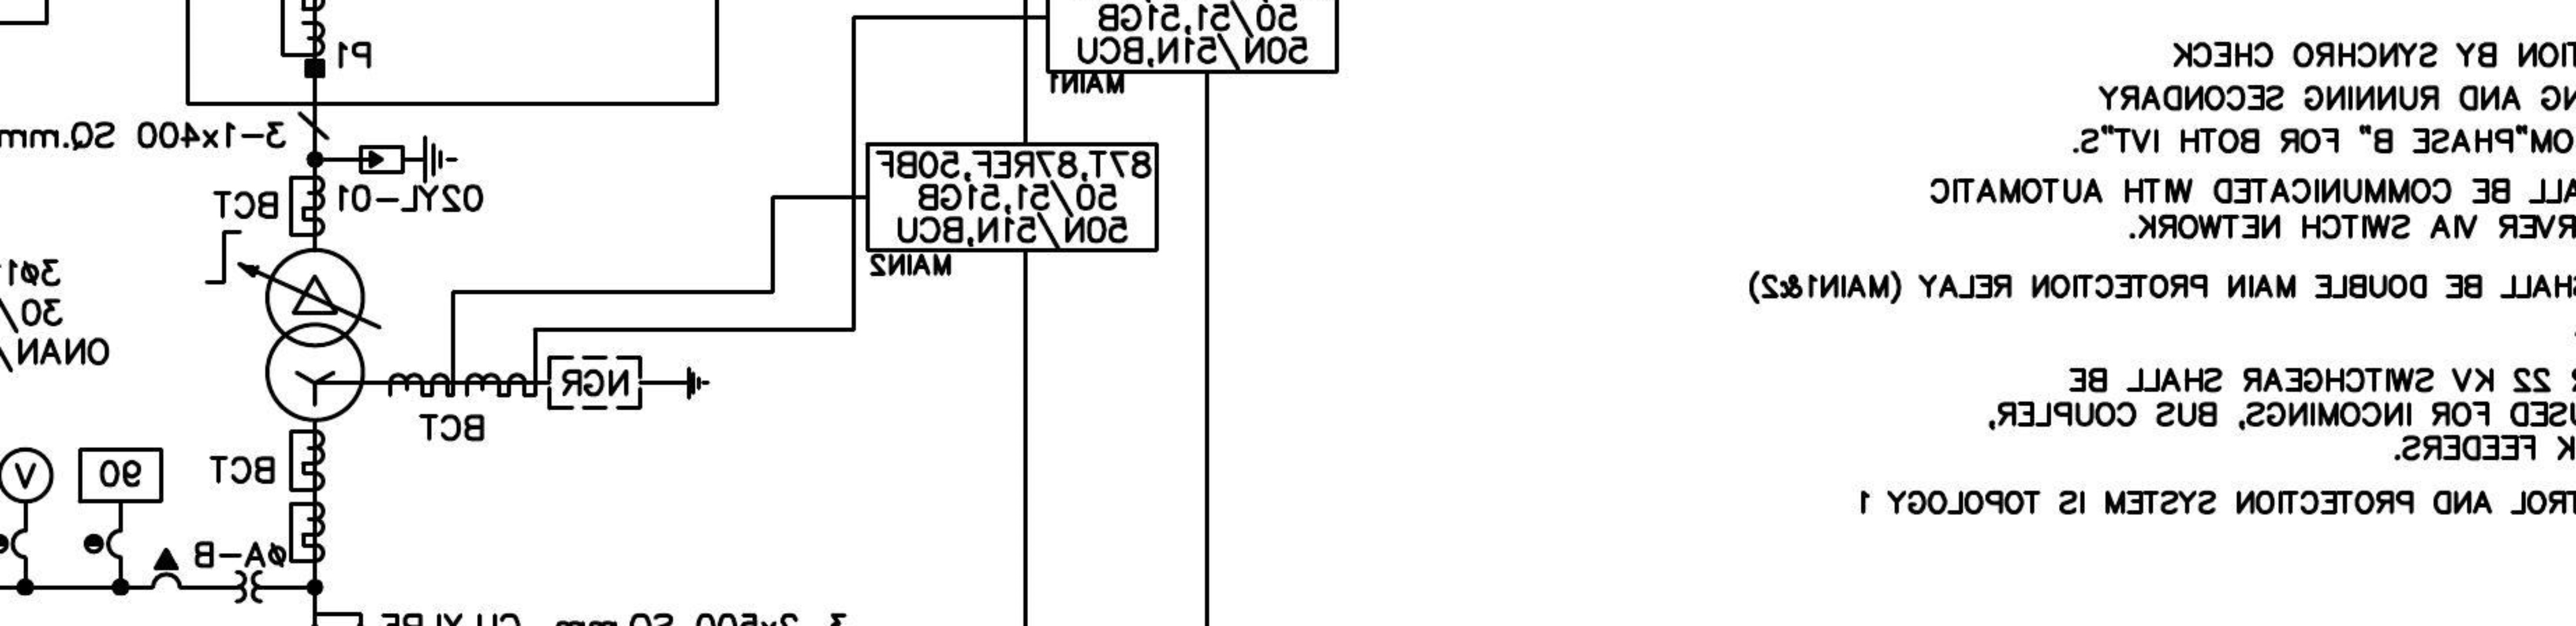11522_tx_dyn1: (264, 246, 366, 424)
115_la: (358, 133, 460, 186)
NGR_future: (547, 355, 711, 411)
